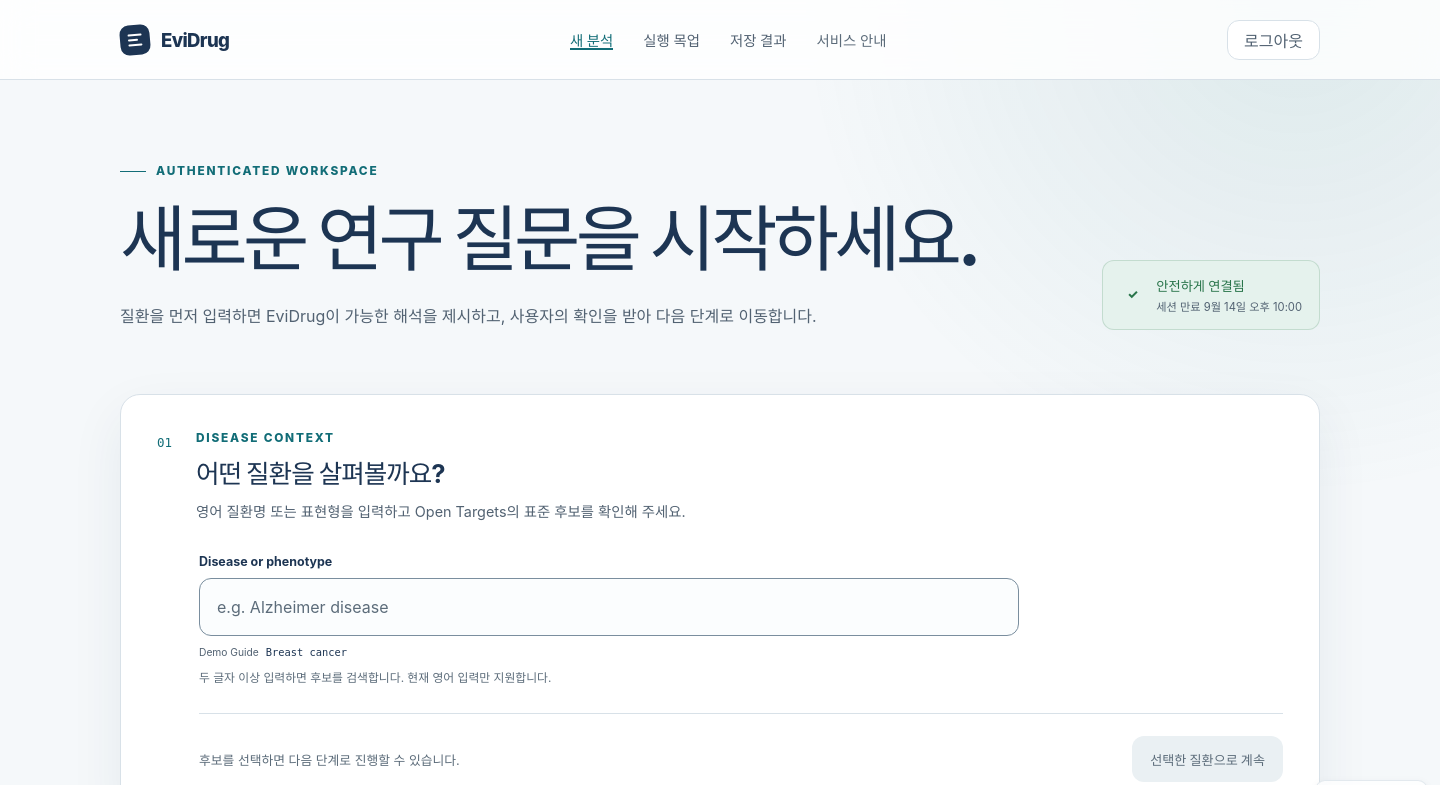
Test: App authentication flow › guides the user when disease search has no matching candidates
Type "alzhemier disease" into the dropdown labelled "Disease or phenotype" at x=609, y=606, box 199,578 -> 1019,636
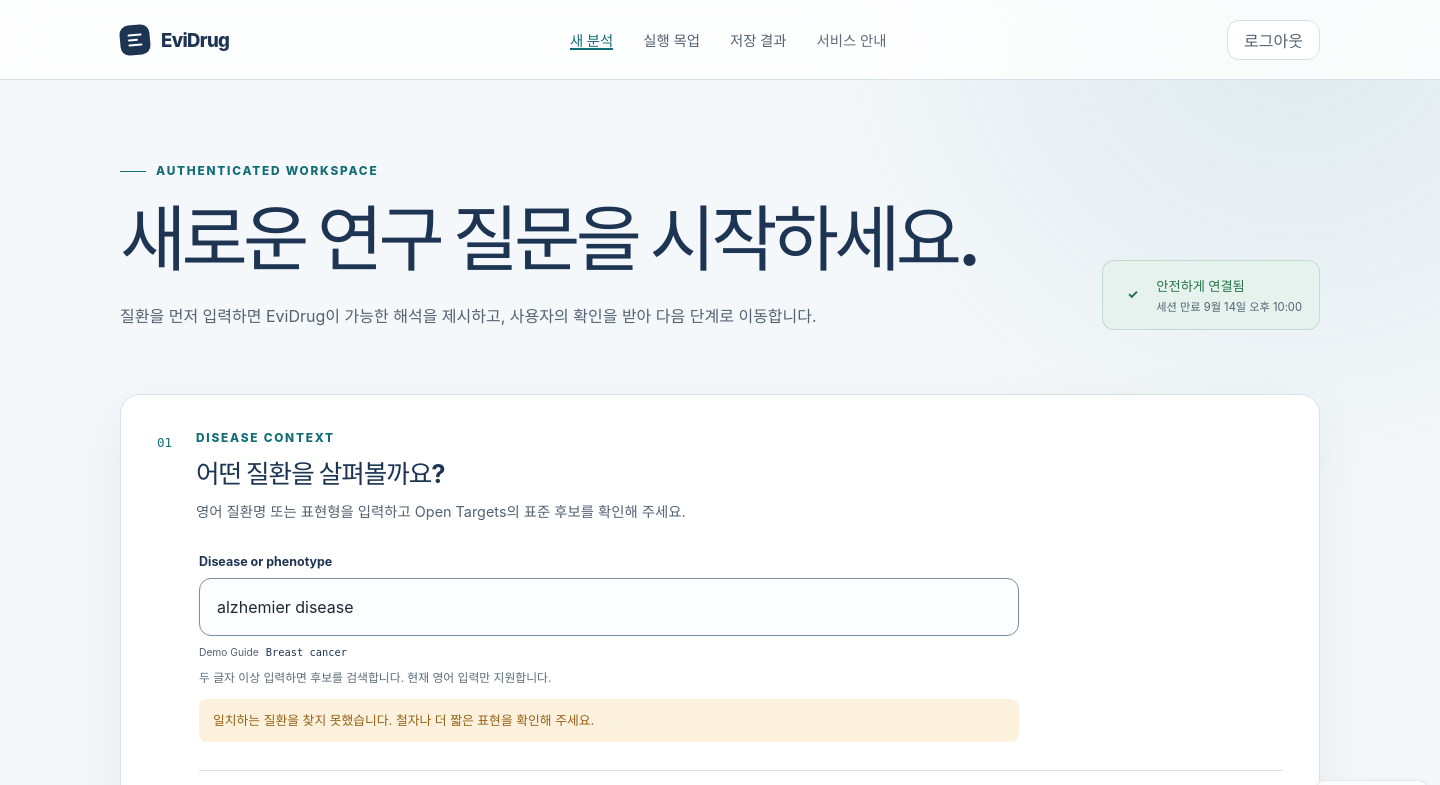
Result: the text "일치하는 질환을 찾지 못했습니다. 철자나 더 짧은 표현을 확인해 주세요." is shown at 199,699 -> 1019,742
